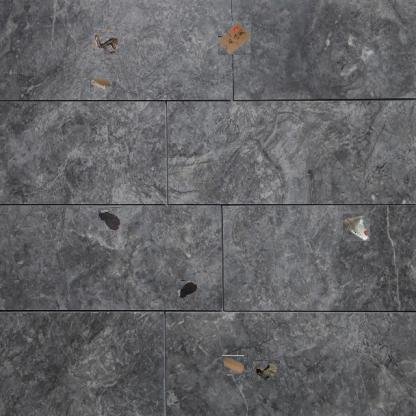dirty: (217, 21, 251, 55), (92, 29, 120, 57), (342, 213, 370, 241), (252, 360, 280, 382), (223, 355, 244, 375), (90, 78, 112, 92)
liquid: (98, 207, 122, 231), (176, 280, 196, 300)
